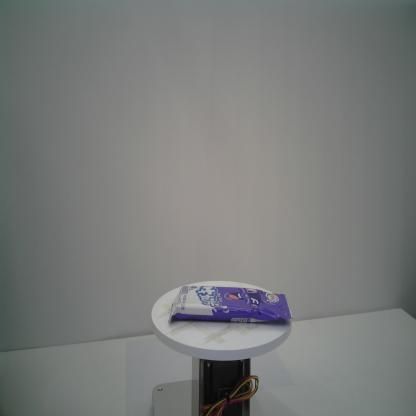Candy: (168, 284, 293, 323)
